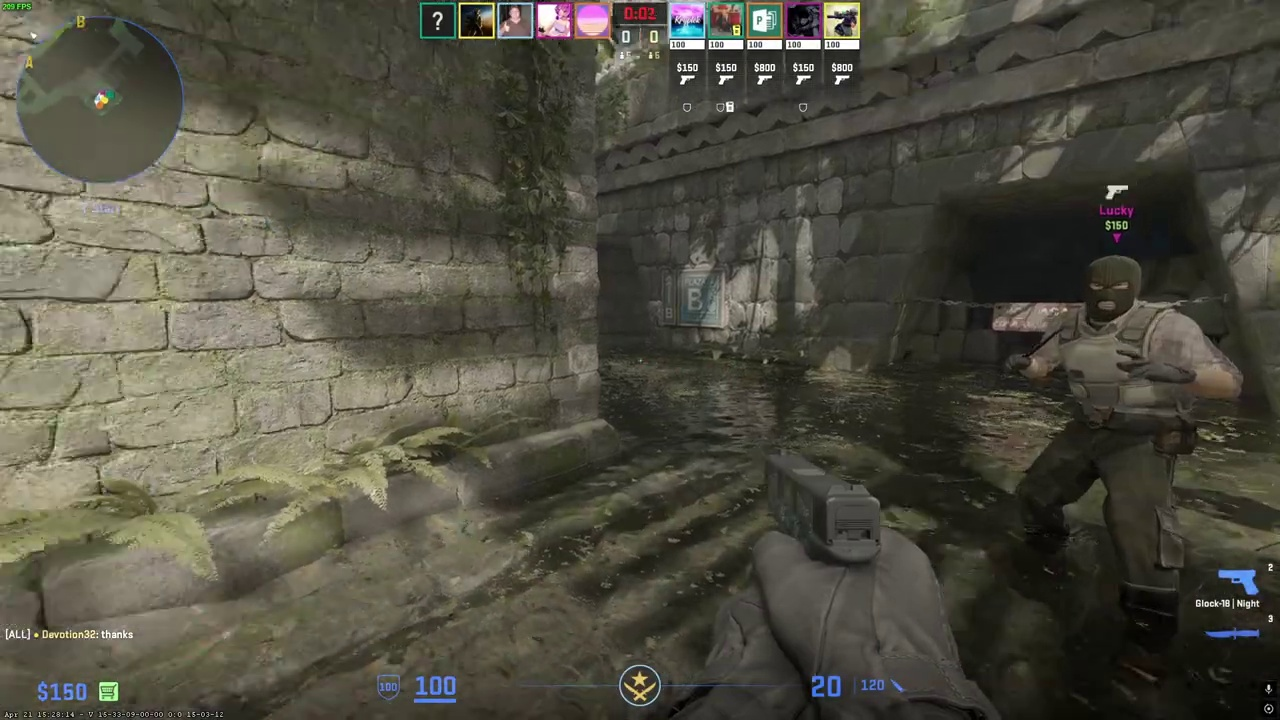Terrorist: (987, 256, 1207, 696)
